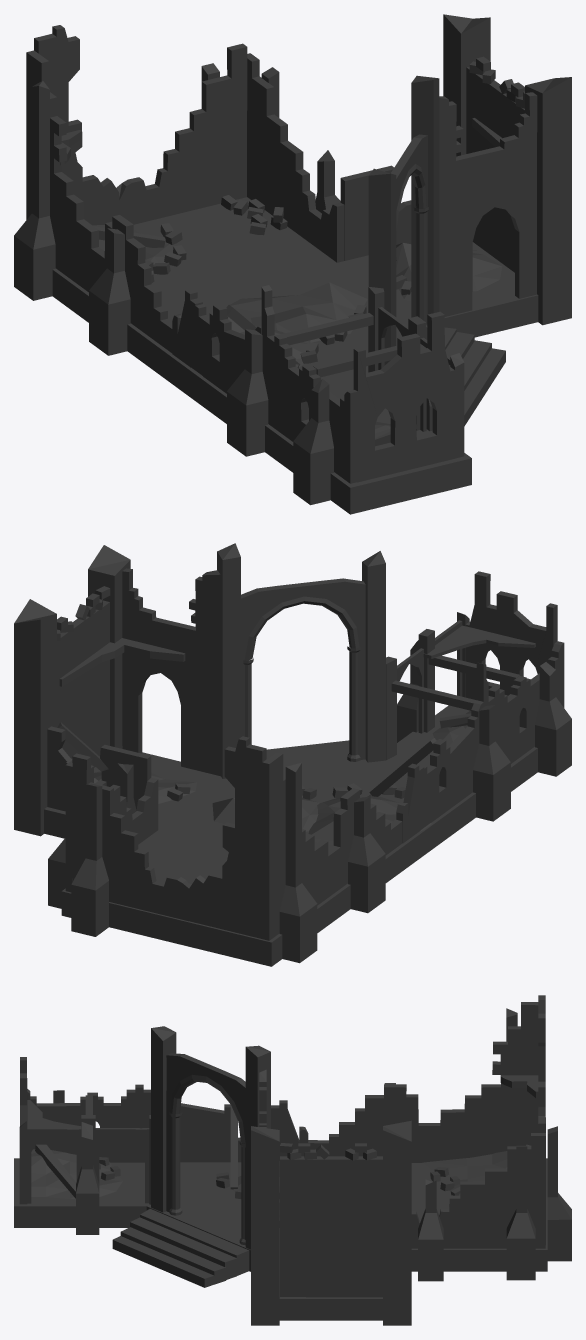
Rendered from cathedralruins_01.glb.
The picture shows the model from 3 angles, top to bottom: view 1: azimuth 30°, elevation 25°; view 2: azimuth 150°, elevation 25°; view 3: azimuth 270°, elevation 25°; orthographic projection. The views are drawn at different scales.
Visible parts, largest first — view 1: geometry_0; view 2: geometry_0; view 3: geometry_0.
Boxes of the visible parts, left/top/right/bottom form: geometry_0: left=14, top=14, right=571, bottom=514; geometry_0: left=14, top=543, right=571, bottom=966; geometry_0: left=14, top=995, right=571, bottom=1325.
Bounding box in the file's own units: 62.94 × 42.62 × 96.65.
Materials: 1 (1 with a texture image).
